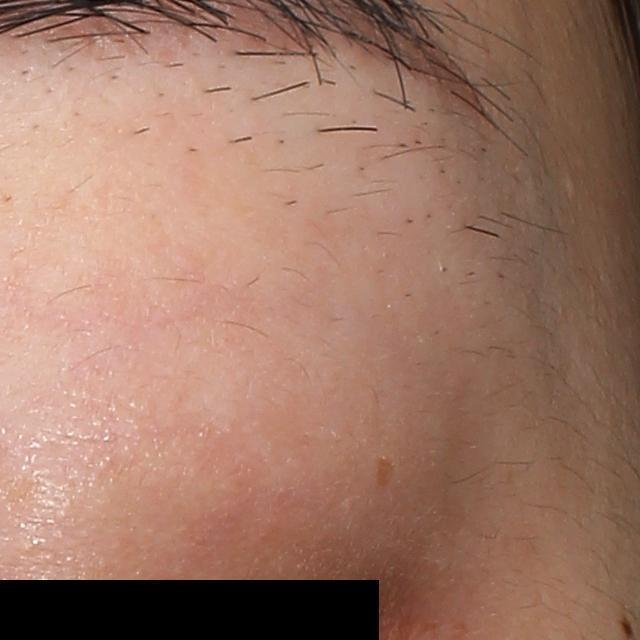melasma: (369, 453, 400, 493)
